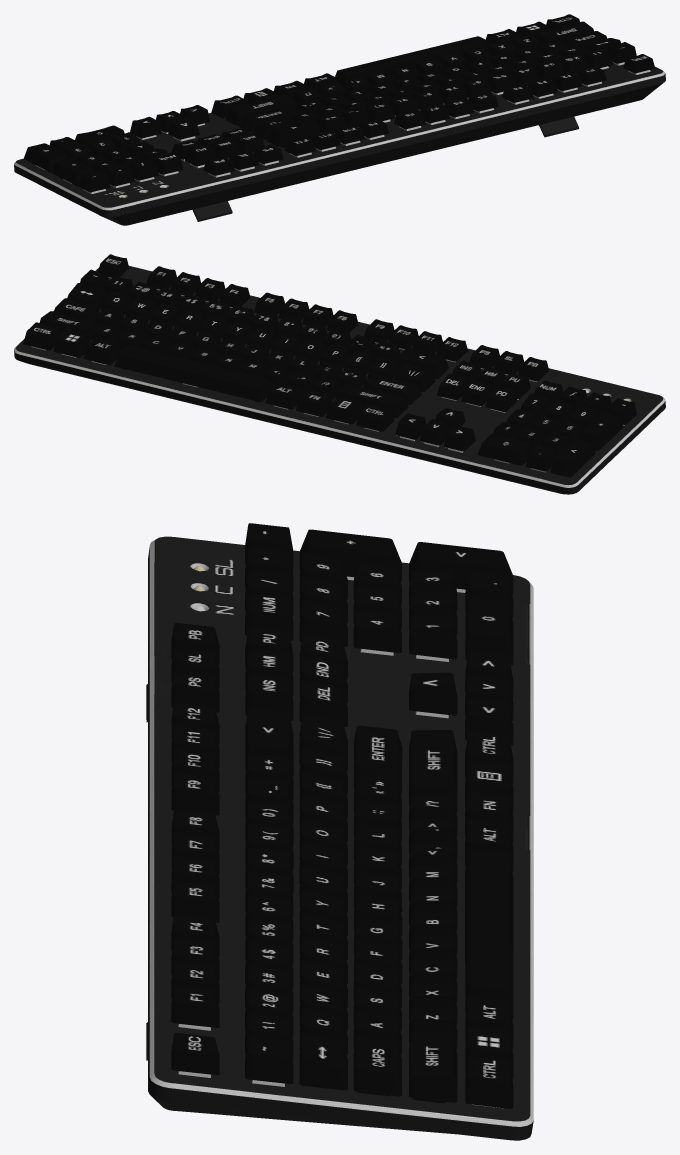
The model's file is keyboard.glb.
The picture shows the model from 3 angles, top to bottom: view 1: azimuth 30°, elevation 25°; view 2: azimuth 150°, elevation 25°; view 3: azimuth 270°, elevation 25°; orthographic projection. The views are drawn at different scales.
Visible parts, largest first — view 1: keyboard; view 2: keyboard; view 3: keyboard.
Boxes of the visible parts, <box> form: keyboard: <box>14,14,665,225</box>; keyboard: <box>14,254,665,494</box>; keyboard: <box>146,523,533,1140</box>.
Bounding box in the file's own units: 0.4399 × 0.0338 × 0.1311.
Materials: 2 (2 with a texture image).
